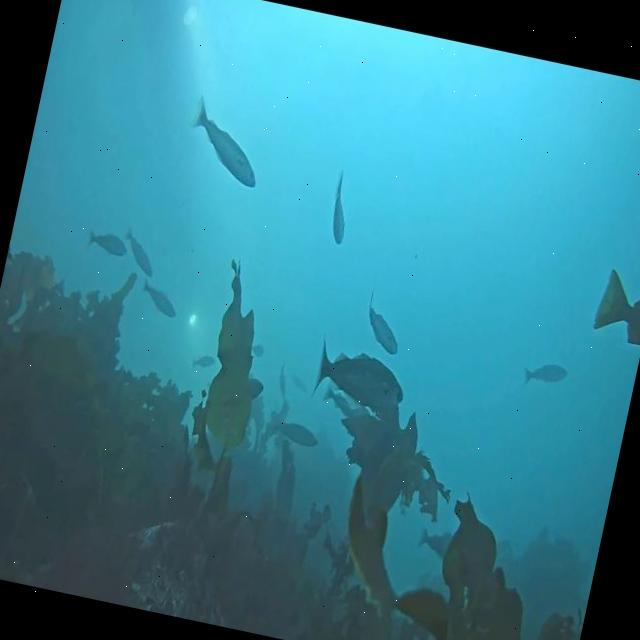fish: (313, 336, 413, 414), (185, 104, 268, 188), (590, 267, 640, 345), (358, 302, 404, 354), (325, 174, 355, 243), (118, 229, 160, 277), (138, 279, 181, 319), (521, 358, 569, 392), (270, 418, 320, 449), (416, 524, 455, 560), (85, 228, 128, 260), (191, 352, 216, 371), (250, 340, 264, 360)
